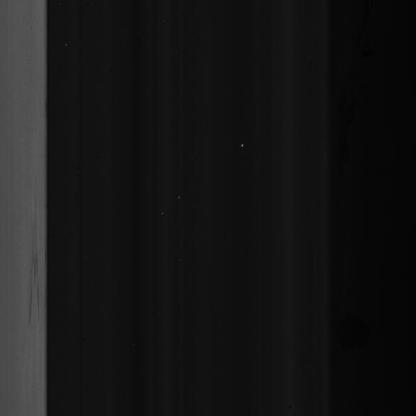silk_spot: (15, 194, 42, 352)
